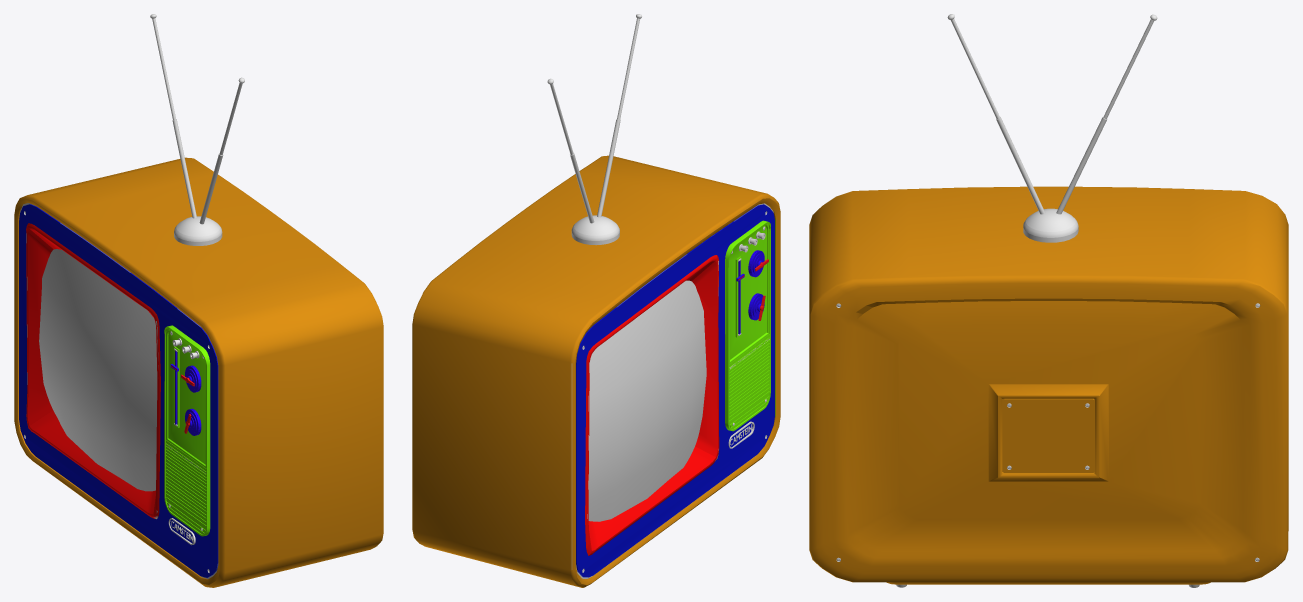
The model's file is TvRetry.fbx.
The picture shows the model from 3 angles, left to right: view 1: azimuth 30°, elevation 25°; view 2: azimuth 150°, elevation 25°; view 3: azimuth 270°, elevation 25°; orthographic projection. The views are drawn at different scales.
Parts seen in each view (by area): view 1: Cube, Cube.001, Cube.003, Cube.005, Cylinder, Cylinder.001, Cylinder.002; view 2: Cube, Cube.001, Cube.003, Cube.005, Cylinder, Cylinder.002, Cylinder.001; view 3: Cube, Cylinder, Cylinder.001, Cylinder.002.
Boxes of the visible parts, x1,y1,x2,y2 form: Cube: (14, 157, 383, 587); Cube.001: (39, 249, 157, 491); Cube.003: (164, 325, 210, 536); Cube.005: (26, 223, 160, 519); Cylinder: (174, 216, 222, 245); Cylinder.001: (152, 18, 196, 218); Cylinder.002: (199, 83, 242, 224); Cube: (412, 155, 780, 587); Cube.001: (588, 280, 706, 521); Cube.003: (725, 220, 770, 431); Cube.005: (585, 255, 719, 555); Cylinder: (571, 215, 619, 245); Cylinder.002: (597, 18, 639, 217); Cylinder.001: (550, 83, 594, 223); Cube: (809, 186, 1288, 584); Cylinder: (1023, 208, 1078, 242); Cylinder.001: (1056, 19, 1153, 214); Cylinder.002: (951, 19, 1045, 214).
Size of the model in its own units: 153 by 380 by 304.
